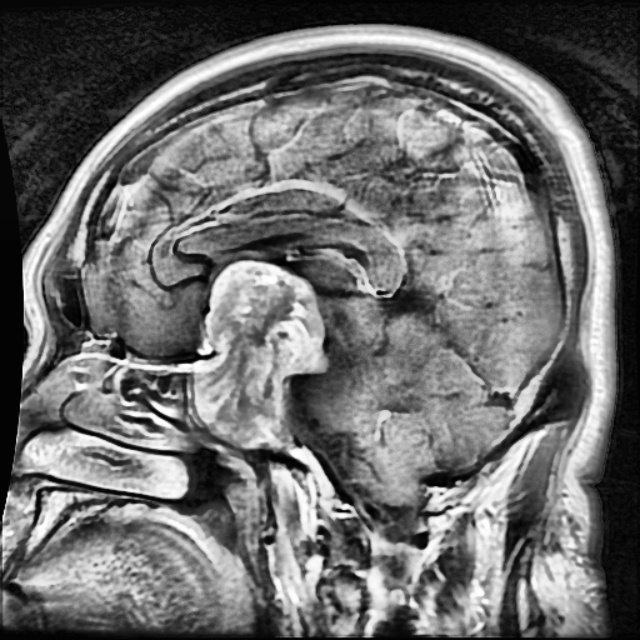Pituitary: (195, 260, 328, 445)
